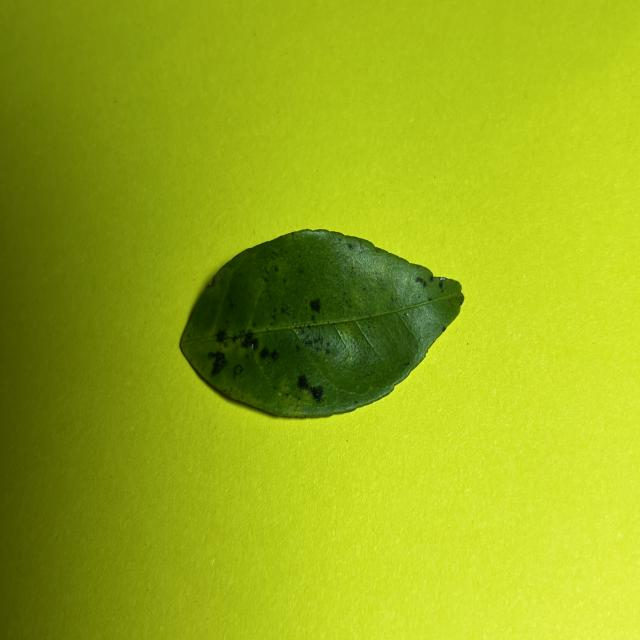sooty_mold: (180, 230, 464, 417)
